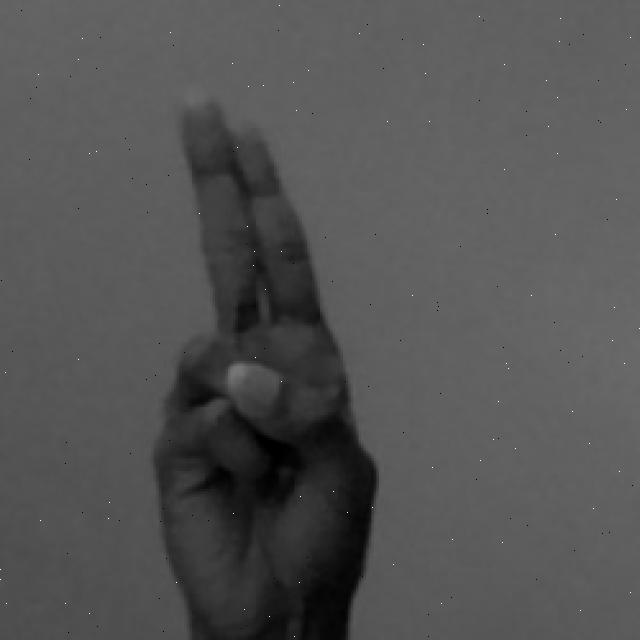U: (142, 84, 384, 640)
